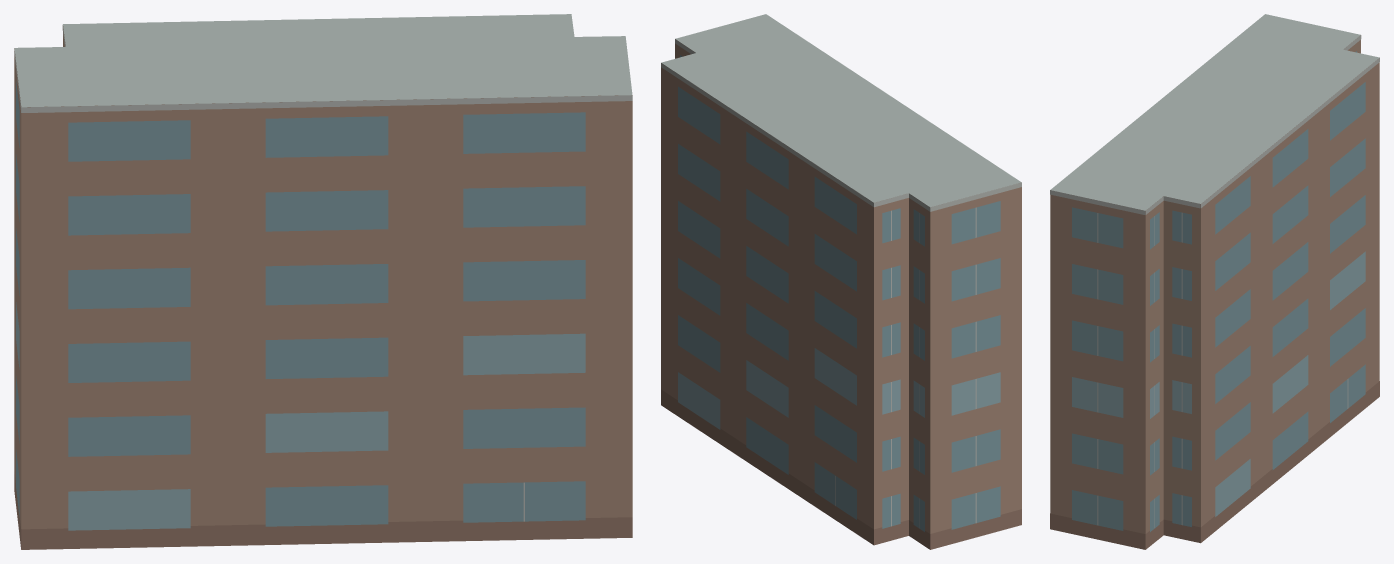
File: survey-upis-32555106.glb
3 renders of one model, left to right at view 1: azimuth 30°, elevation 25°; view 2: azimuth 150°, elevation 25°; view 3: azimuth 270°, elevation 25°, orthographic. The views are drawn at different scales.
Parts seen in each view (by area): view 1: survey-upis-32555106.tmp; view 2: survey-upis-32555106.tmp; view 3: survey-upis-32555106.tmp.
Boxes of the visible parts, left/top/right/bottom form: survey-upis-32555106.tmp: left=14, top=14, right=632, bottom=549; survey-upis-32555106.tmp: left=661, top=14, right=1021, bottom=549; survey-upis-32555106.tmp: left=1050, top=14, right=1379, bottom=549.
Bounding box in the file's own units: 22.78 × 18.3 × 16.13.
